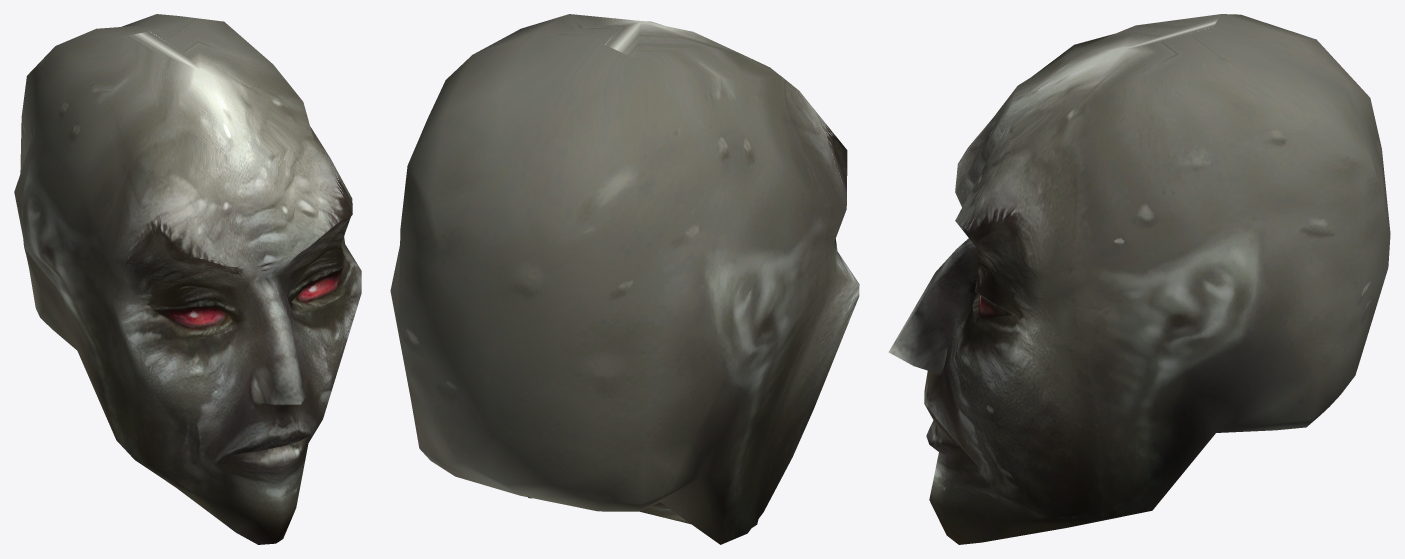
Rendered from b_n_dark elf_m_head_03.glb.
The picture shows the model from 3 angles, left to right: view 1: azimuth 30°, elevation 25°; view 2: azimuth 150°, elevation 25°; view 3: azimuth 270°, elevation 25°; orthographic projection. The views are drawn at different scales.
Parts seen in each view (by area): view 1: Tri B_N_Dark Elf_M_Head_03; view 2: Tri B_N_Dark Elf_M_Head_03; view 3: Tri B_N_Dark Elf_M_Head_03.
Part boxes in pixels (<box>): Tri B_N_Dark Elf_M_Head_03: <box>14,14,361,544</box>; Tri B_N_Dark Elf_M_Head_03: <box>390,14,859,544</box>; Tri B_N_Dark Elf_M_Head_03: <box>888,14,1390,544</box>.
Bounding box in the file's own units: 0.093 × 0.1577 × 0.1421.
1 material, 1 textured.
